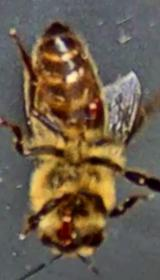varroa_mite: (74, 92, 110, 128)
